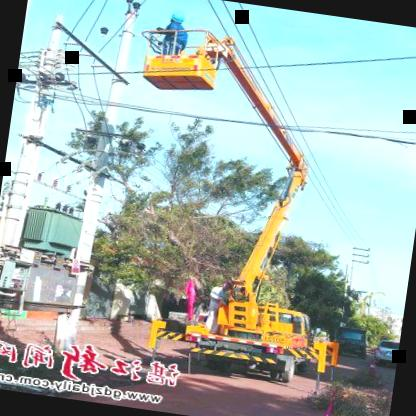helmet: (168, 8, 190, 24)
